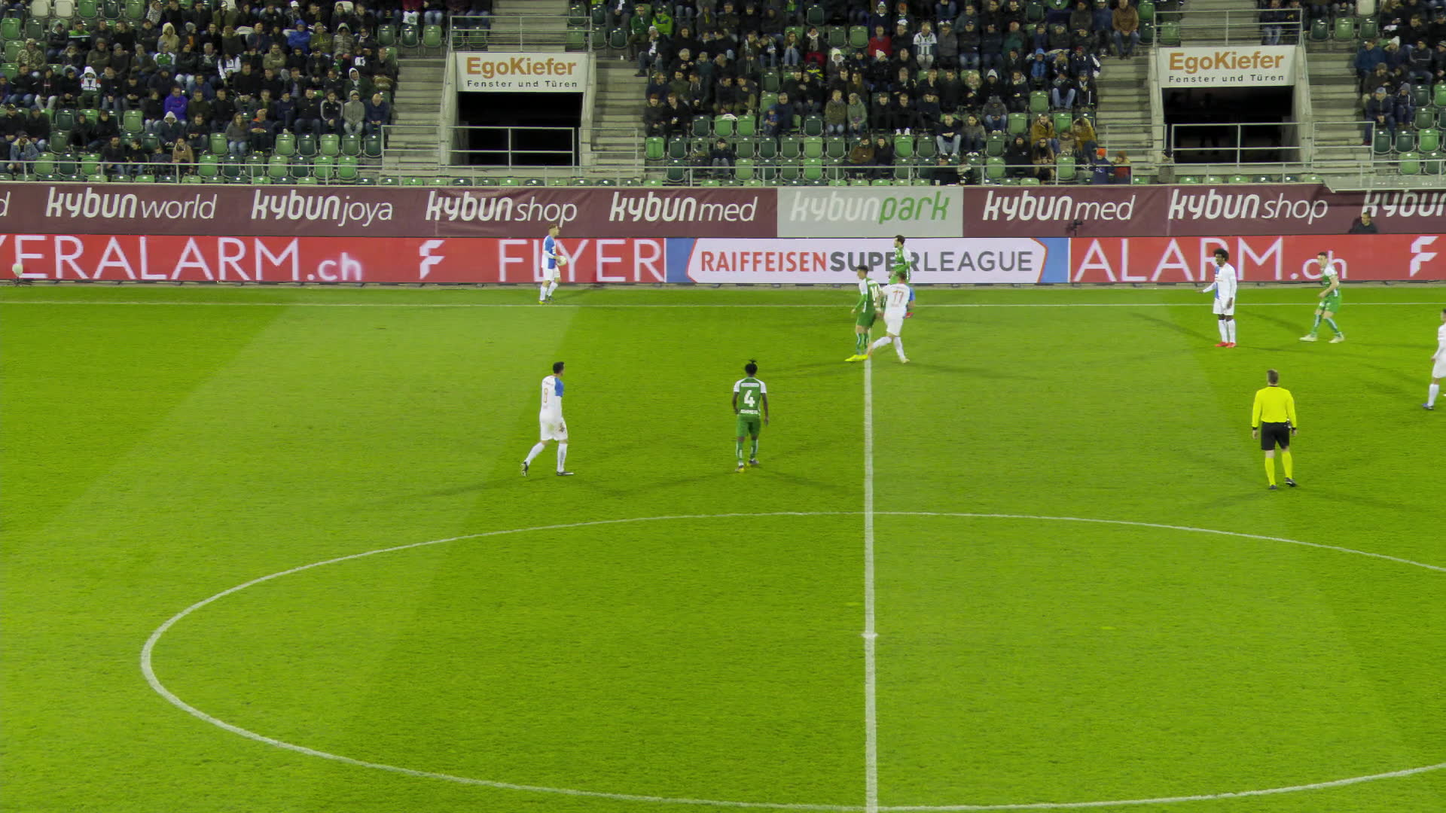ball: (557, 255, 566, 265)
player: (840, 271, 897, 361), (529, 358, 566, 481), (730, 360, 769, 473), (867, 271, 912, 364), (1197, 248, 1237, 349), (1315, 246, 1351, 337), (892, 232, 921, 318), (535, 225, 566, 304)
referee: (1250, 368, 1303, 488)
